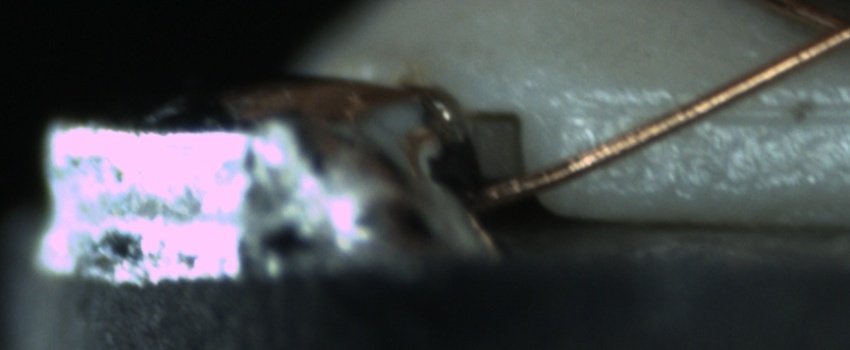CL: (777, 2, 849, 65)
DL: (627, 75, 850, 138)
